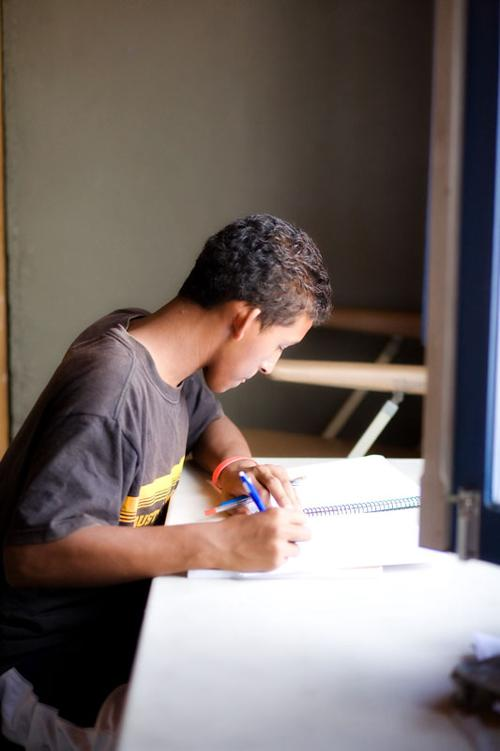person: (5, 212, 334, 733)
